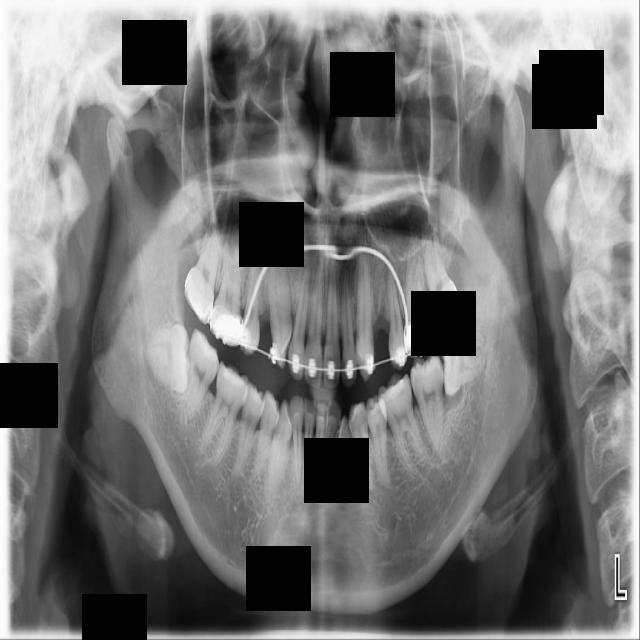52: (176, 263, 224, 328), (427, 279, 464, 335), (206, 303, 246, 349), (401, 311, 437, 360)
73: (579, 584, 583, 590)
BioHorizons Implant: (414, 213, 465, 336), (418, 225, 464, 336)
Biomet 3i Implant: (438, 324, 489, 399)
Blue Sky Bio Implant: (409, 351, 447, 453)
Caries: (179, 210, 225, 326)
Implant: (170, 326, 227, 430)
Keystone Dental Implant: (144, 320, 190, 395)
